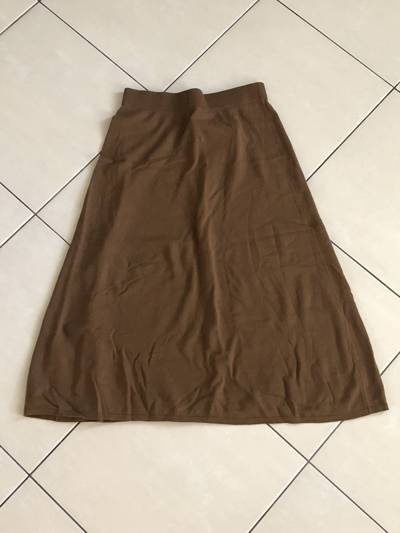Dress: (19, 73, 357, 451)
